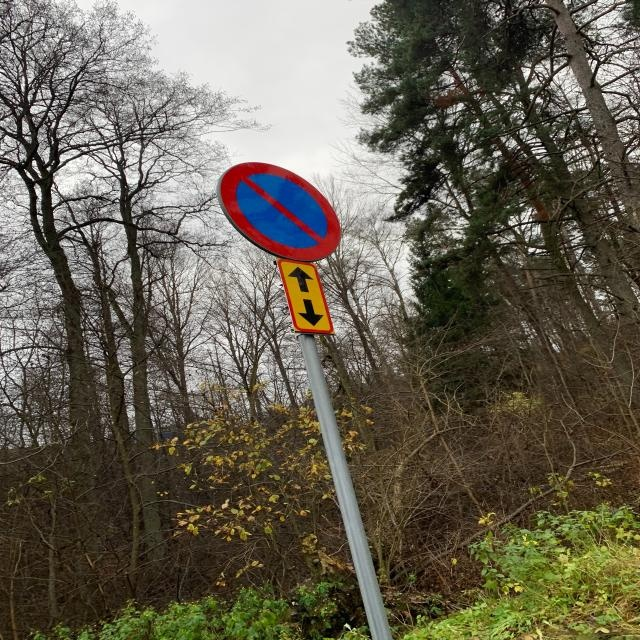avstignnigsplats: (219, 162, 340, 260)
